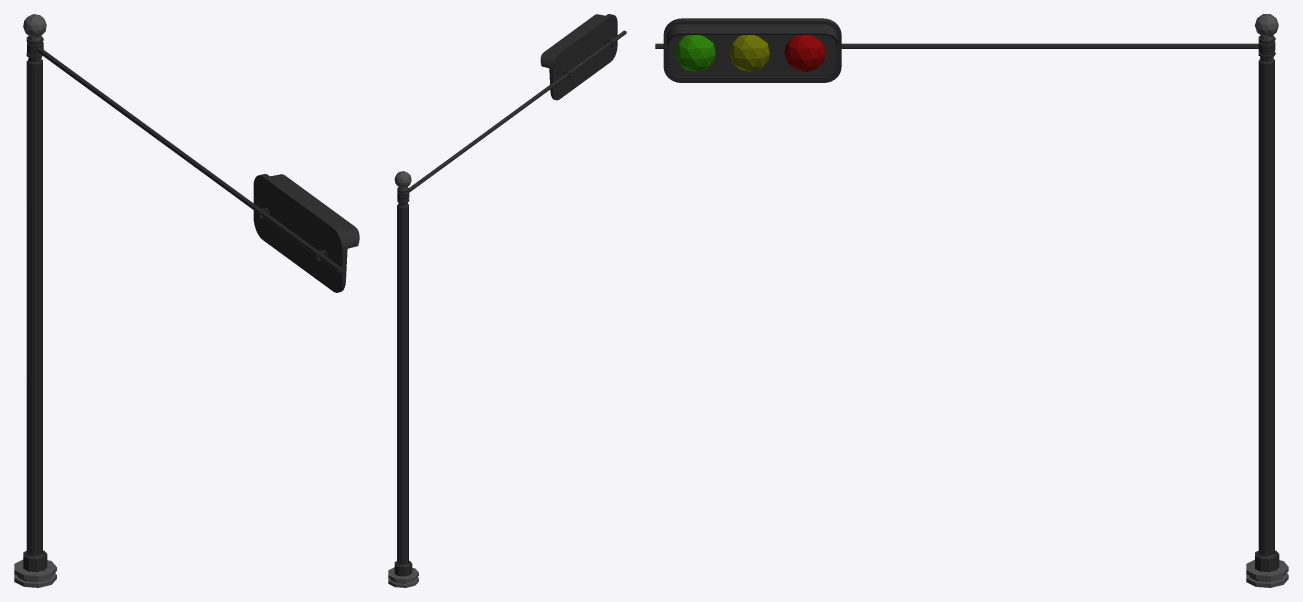
File: traffic light.fbx
The picture shows the model from 3 angles, left to right: view 1: azimuth 30°, elevation 25°; view 2: azimuth 150°, elevation 25°; view 3: azimuth 270°, elevation 25°; orthographic projection. The views are drawn at different scales.
Parts seen in each view (by area): view 1: 柱体, 立方体; view 2: 柱体, 立方体; view 3: 柱体, 立方体.
Part boxes in pixels (left/top/right/bottom): 柱体: left=14, top=14, right=342, bottom=587; 立方体: left=253, top=174, right=359, bottom=292; 柱体: left=388, top=30, right=626, bottom=587; 立方体: left=540, top=14, right=617, bottom=100; 柱体: left=655, top=14, right=1288, bottom=587; 立方体: left=663, top=18, right=841, bottom=82.
Bounding box in the file's own units: 203 × 2326 × 2366.
